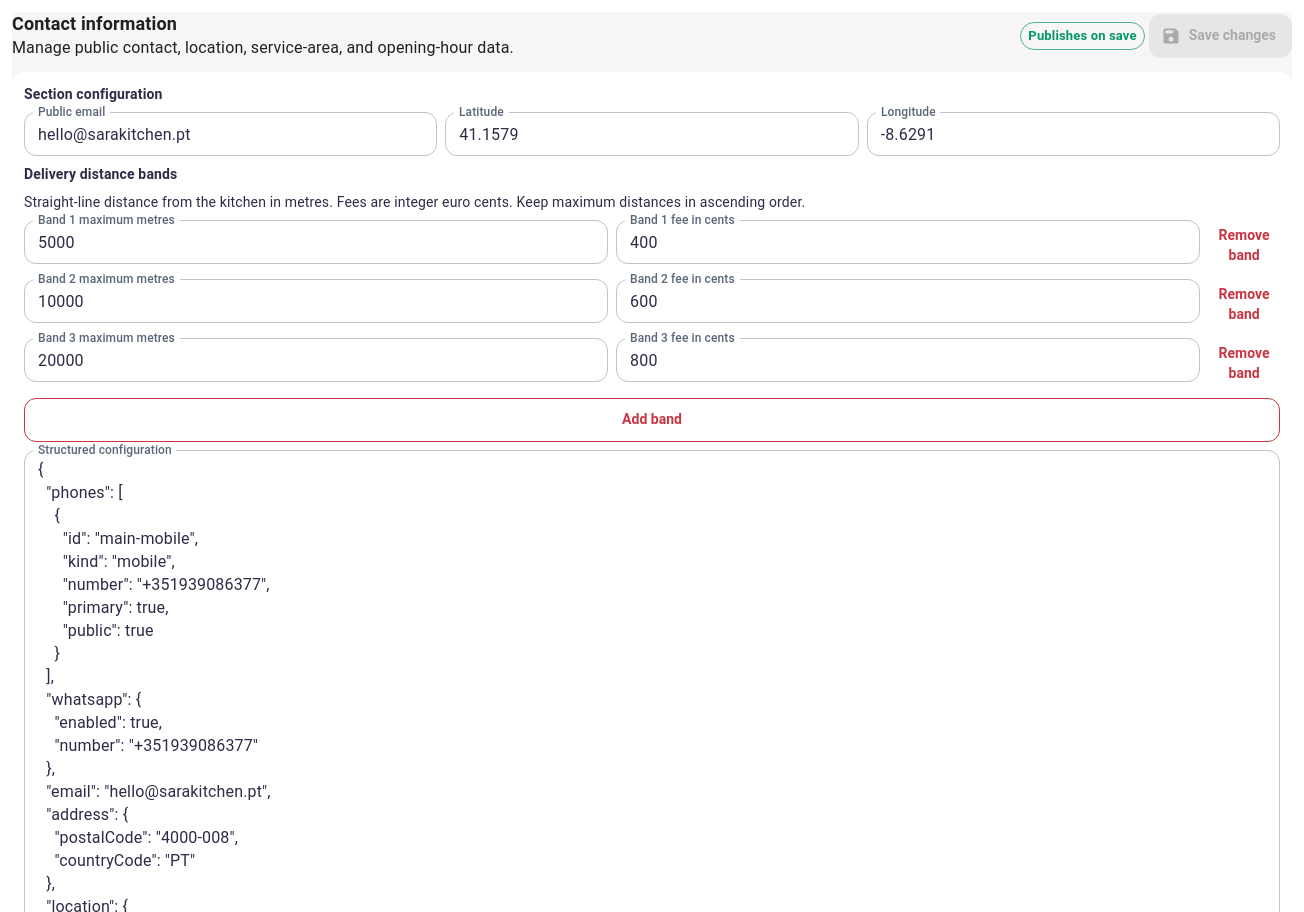
Test: settings section editor › saves a direct section and exposes the public revalidation result
The width and height of the screenshot is (1304, 912).
Replace the text in the field labelled "Public email" with "orders@sarakitchen.pt": (231, 134) [24, 114, 437, 154]
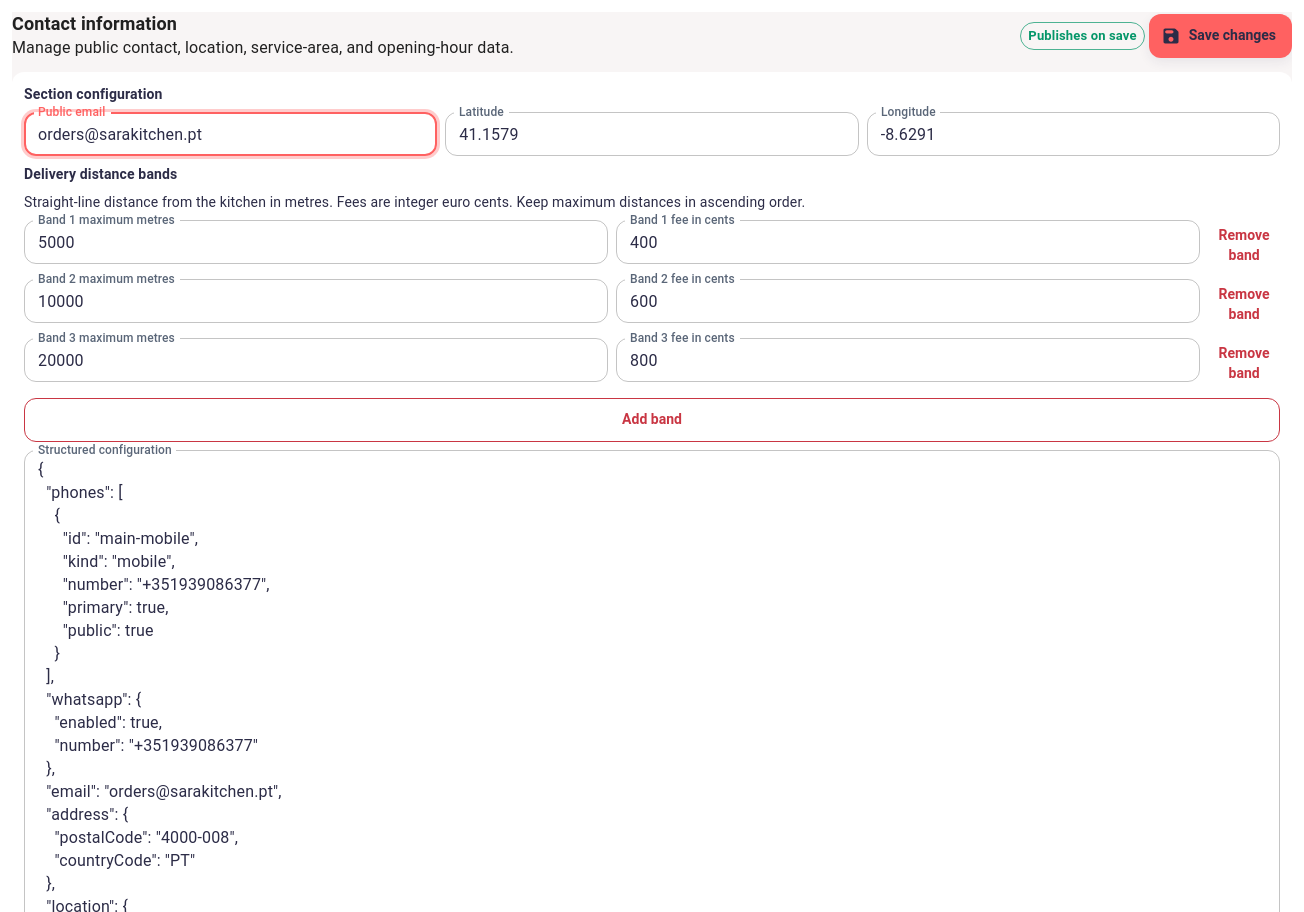
Click the button "Save changes": (1220, 36) [1149, 14, 1292, 58]
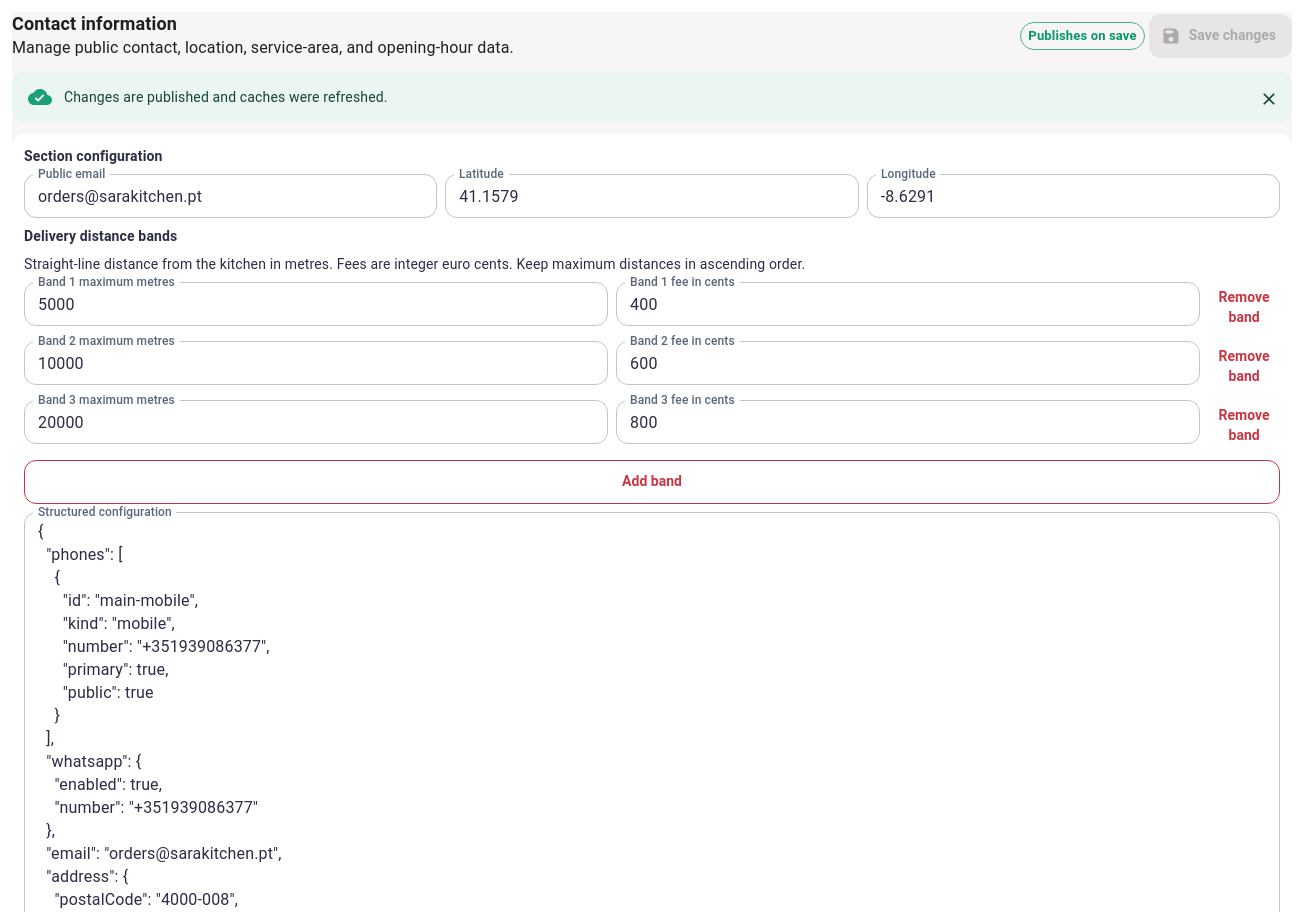
Expected: the text "Changes are published and caches were refreshed." is shown, [64, 89, 388, 105]
